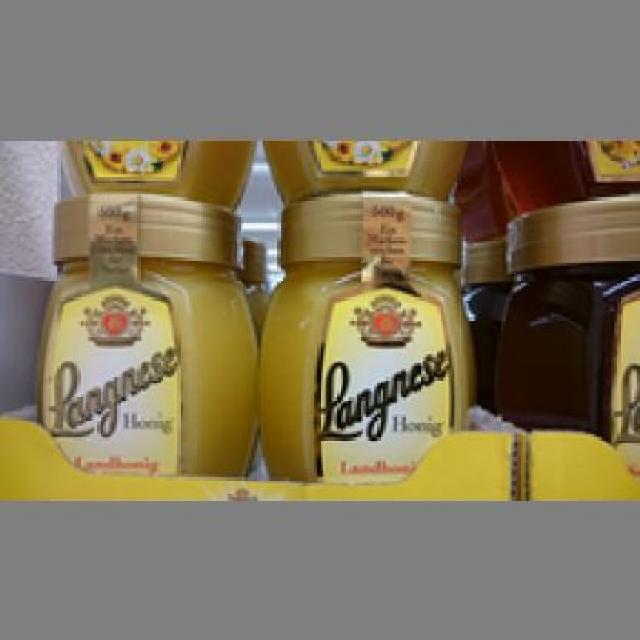Honey: (257, 191, 466, 484), (39, 192, 252, 474)
